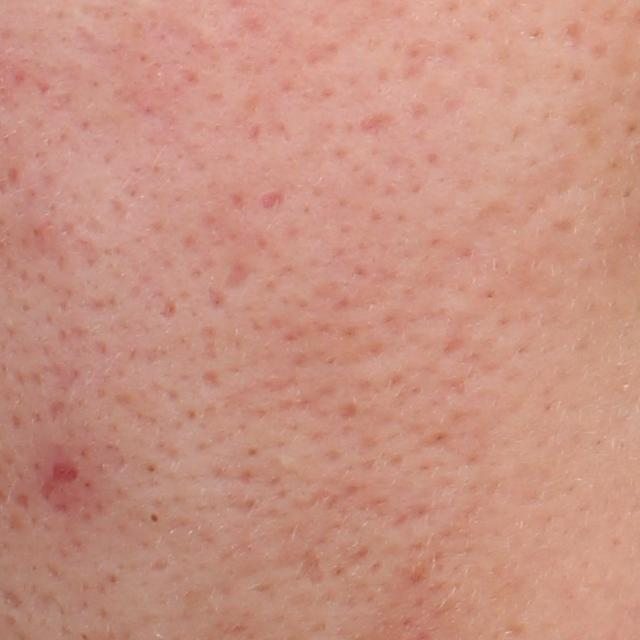atrophic_scar: (218, 253, 259, 291), (296, 544, 328, 587), (358, 109, 398, 137), (47, 460, 78, 484), (257, 190, 285, 209)
comedo: (141, 508, 165, 530)
